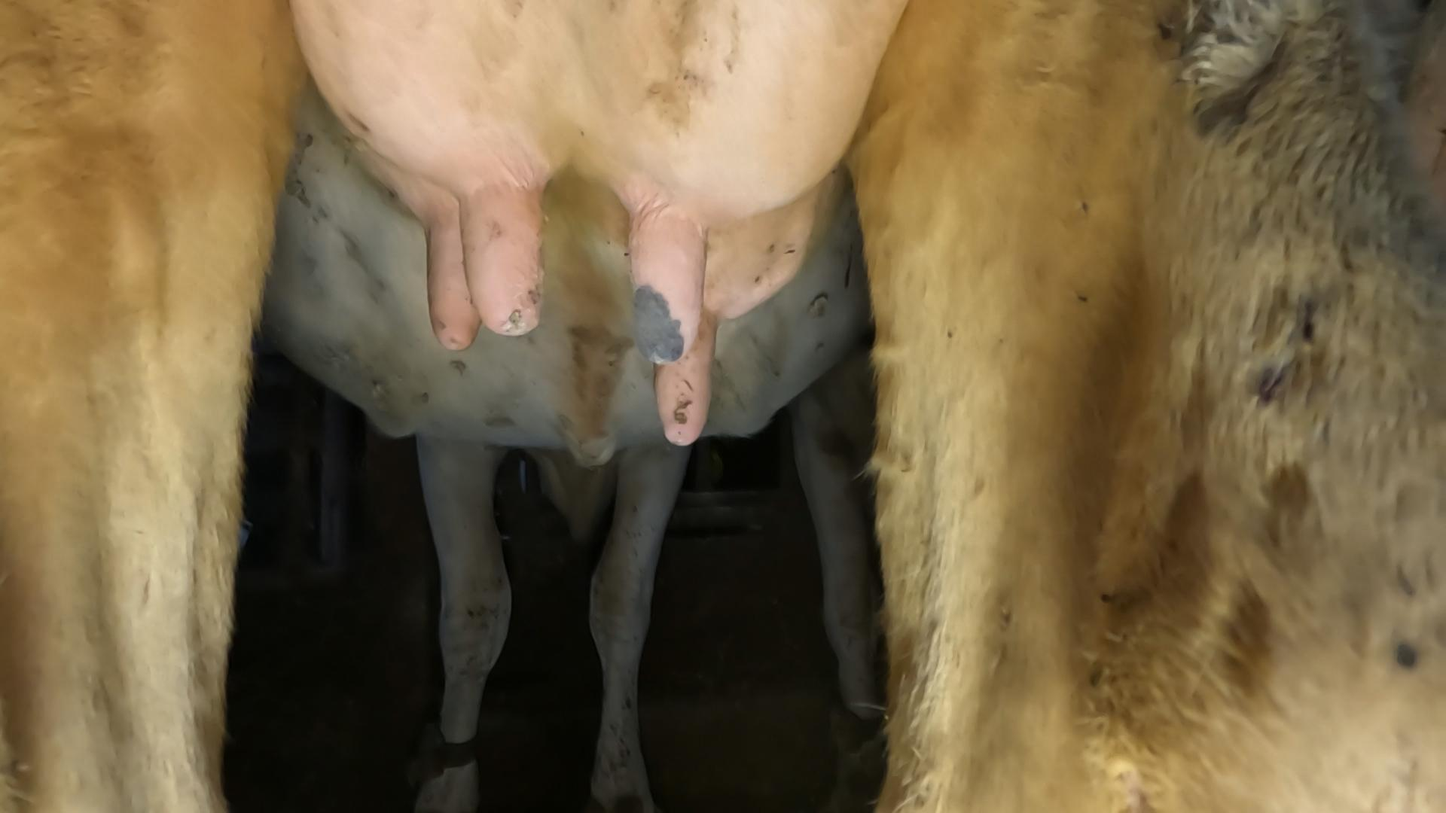Zitze: (613, 196, 712, 368), (464, 180, 561, 352), (413, 214, 508, 367), (656, 313, 735, 444)
